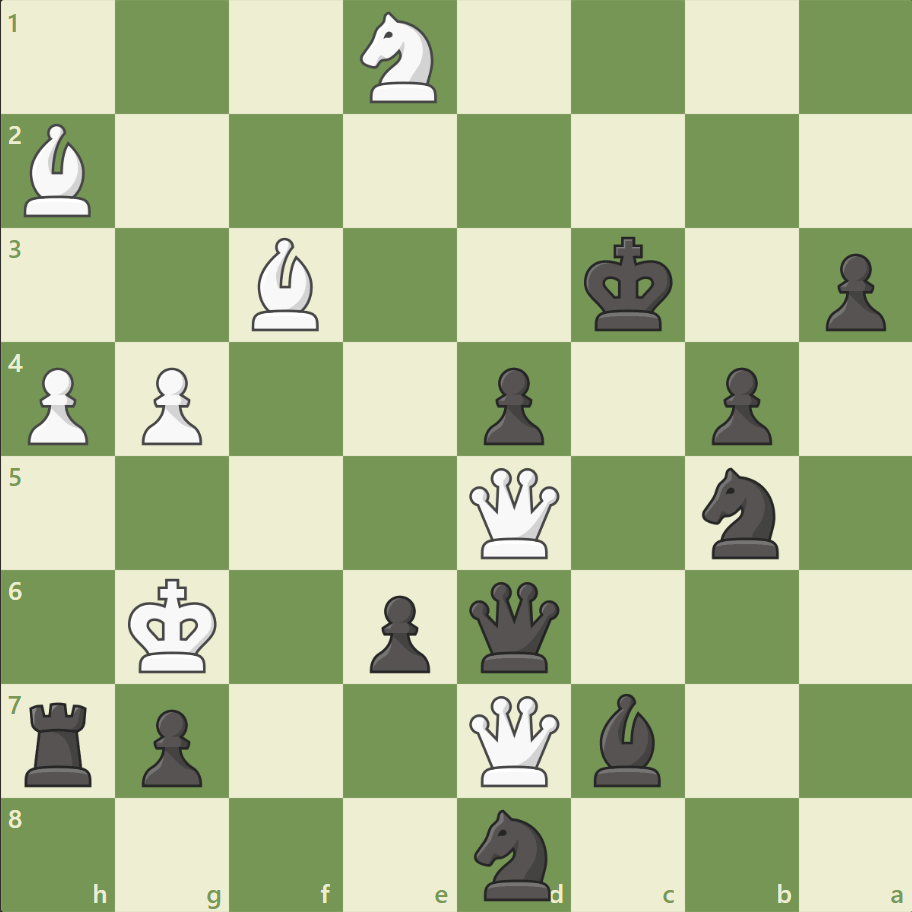B: (244, 233, 328, 336), (17, 120, 101, 222)
K: (124, 571, 224, 679)
N: (351, 7, 449, 110)
P: (133, 359, 208, 450), (20, 359, 95, 450)
Q: (464, 690, 563, 789), (464, 463, 563, 562)
b: (585, 687, 669, 790)
k: (579, 231, 679, 339)
n: (692, 461, 789, 564), (465, 802, 562, 904)
p: (133, 700, 208, 791), (701, 359, 776, 450), (474, 359, 549, 450), (361, 586, 435, 677), (815, 246, 889, 337)
q: (464, 576, 563, 676)
r: (19, 693, 102, 790)
